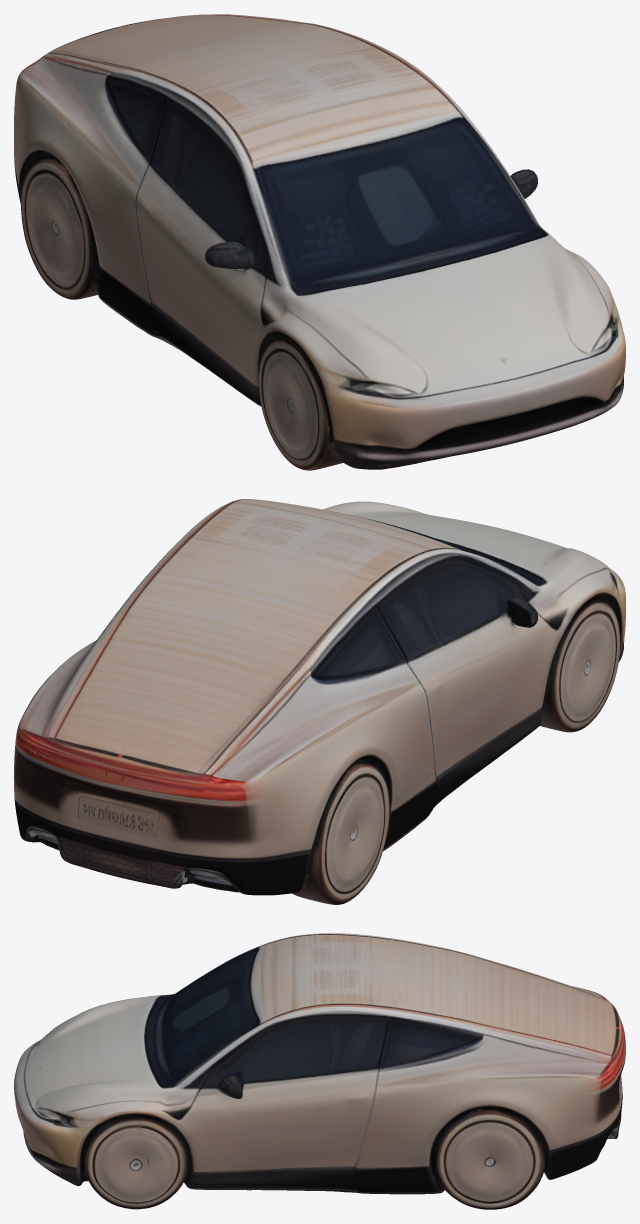
The model's file is tesla_cybercab_3d_model.glb.
The picture shows the model from 3 angles, top to bottom: view 1: azimuth 30°, elevation 25°; view 2: azimuth 150°, elevation 25°; view 3: azimuth 270°, elevation 25°; orthographic projection. The views are drawn at different scales.
Visible parts, largest first — view 1: tripo_node_369f0999-50fc-4368-901b-ed21f7275965; view 2: tripo_node_369f0999-50fc-4368-901b-ed21f7275965; view 3: tripo_node_369f0999-50fc-4368-901b-ed21f7275965.
Boxes of the visible parts, x1=… form: tripo_node_369f0999-50fc-4368-901b-ed21f7275965: x1=14, y1=14, x2=625, y2=470; tripo_node_369f0999-50fc-4368-901b-ed21f7275965: x1=14, y1=499, x2=625, y2=904; tripo_node_369f0999-50fc-4368-901b-ed21f7275965: x1=14, y1=933, x2=625, y2=1209.
Size of the model in its own units: 0.4449 by 0.3257 by 0.9473.
1 material, 1 textured.
